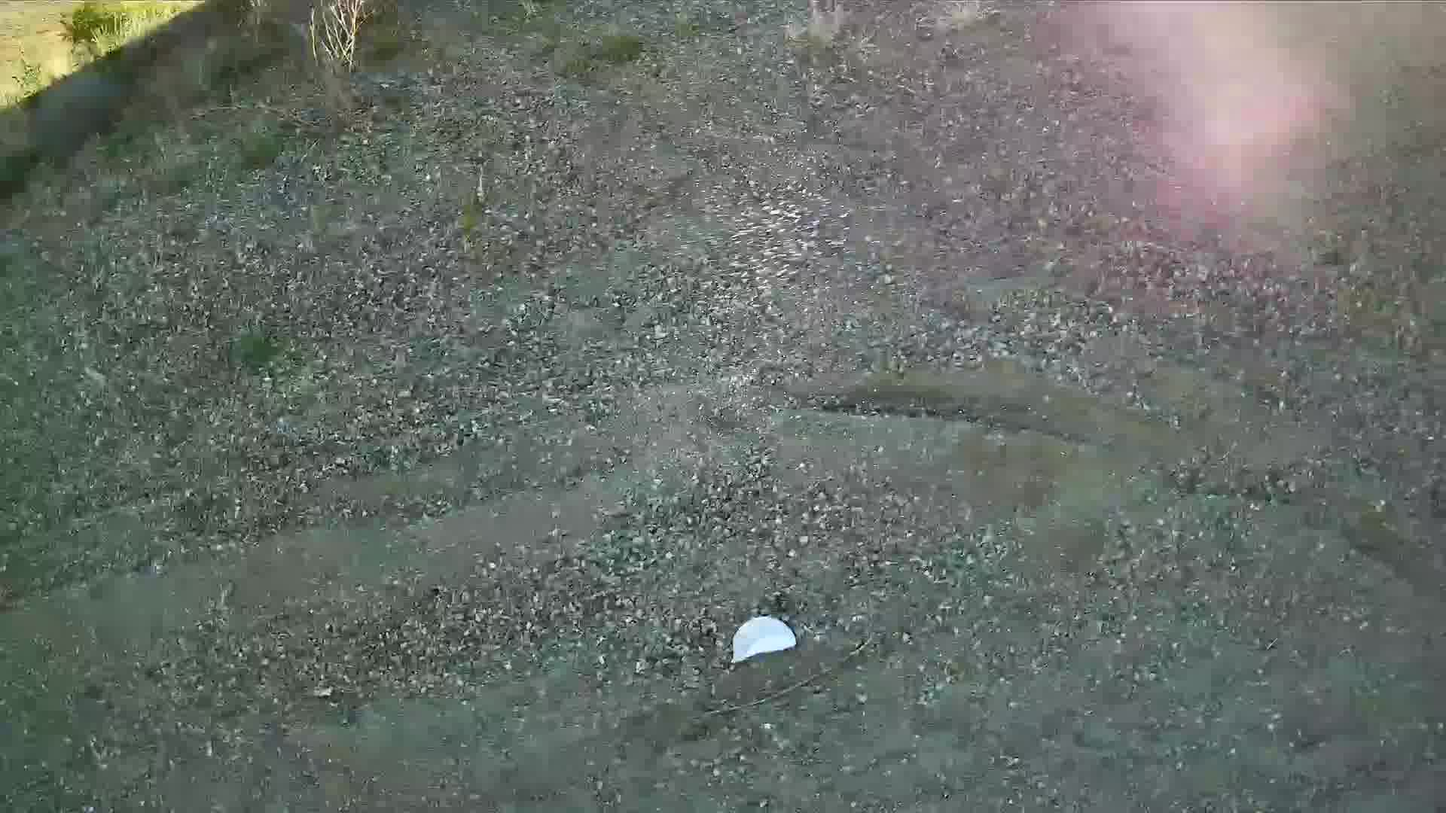Target: (722, 612, 809, 664)
